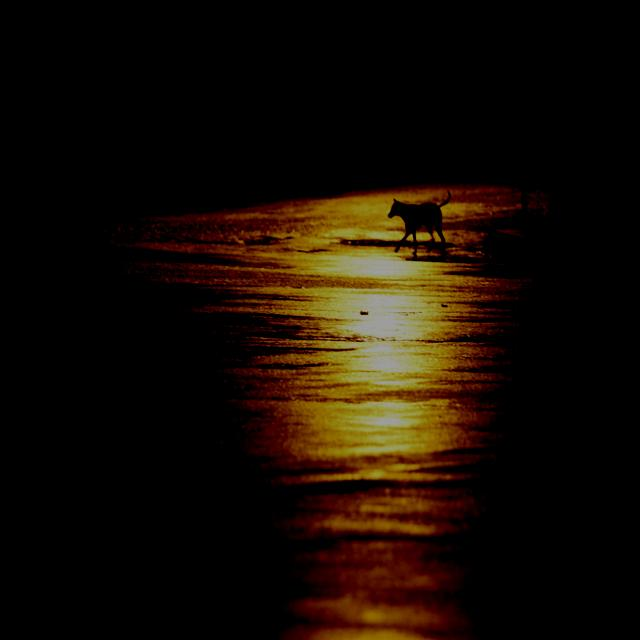Dog: (385, 196, 455, 255)
